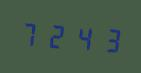four: (70, 20, 95, 54)
seven: (18, 16, 43, 51)
three: (96, 21, 121, 56)
two: (44, 18, 69, 52)
